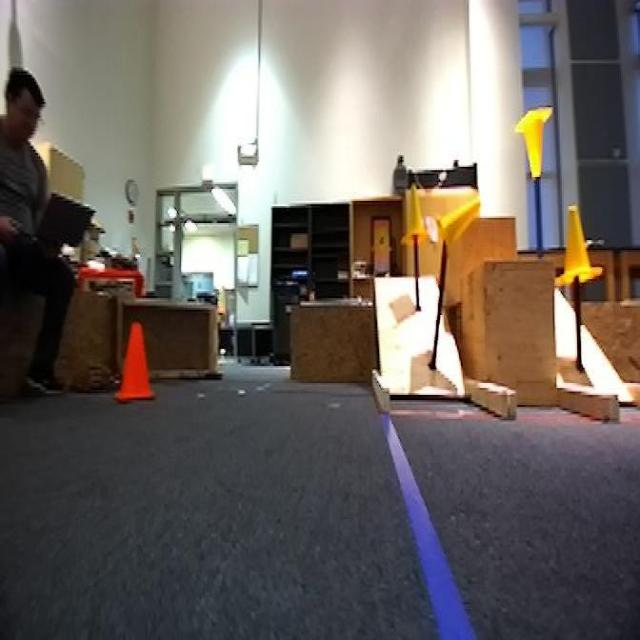frc_cone: (555, 202, 601, 288), (514, 109, 552, 180), (438, 199, 484, 255), (403, 189, 430, 254)
